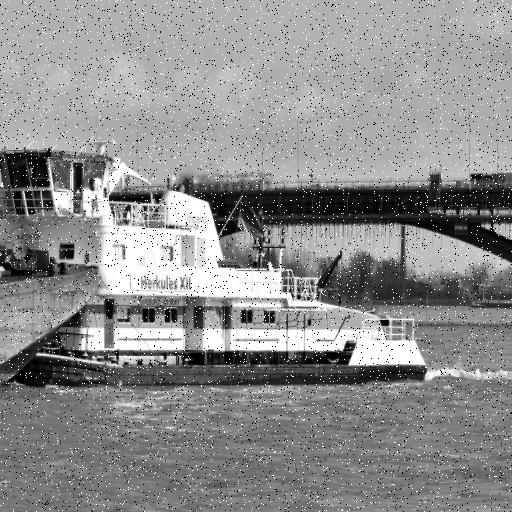tugboat: (1, 133, 434, 403)
